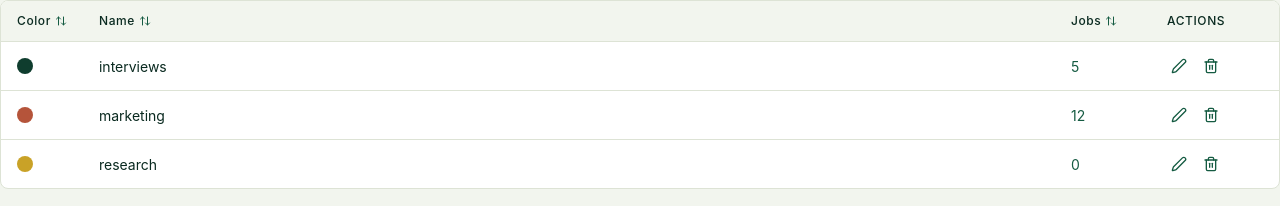
TagList › sorts by name when the header is clicked
The image size is (1280, 206).
Click the button "Name". click: [125, 21]
box: [99,13,151,29]
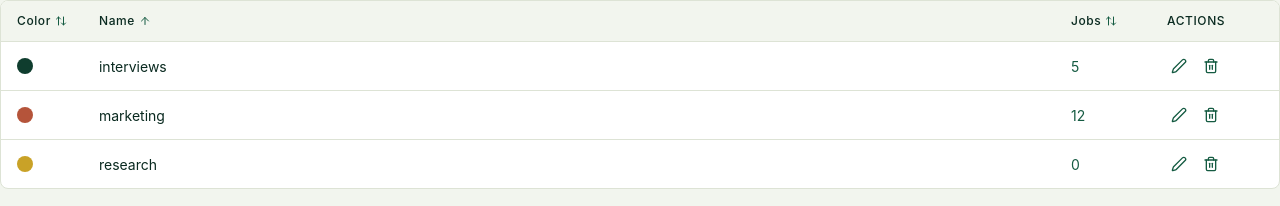
Expected: the elements with test id "tag-name" read "interviews", "marketing", "research", in this order, [99,58,167,75]; [99,107,165,124]; [99,156,157,173]
Click the button "Name". click: [125, 21]
box: [99,13,151,29]
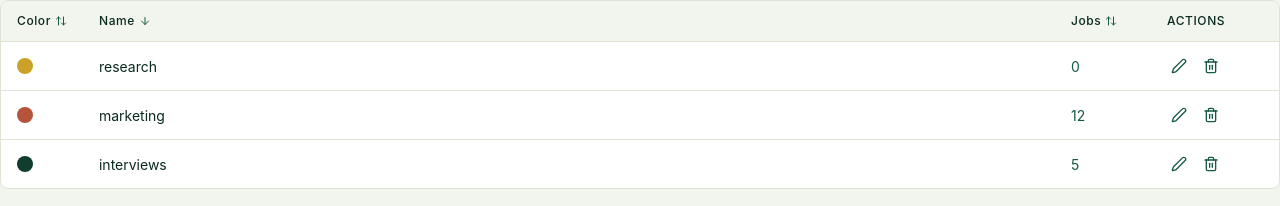
Expected: the elements with test id "tag-name" read "research", "marketing", "interviews", in this order, [99,58,157,75]; [99,107,165,124]; [99,156,167,173]
